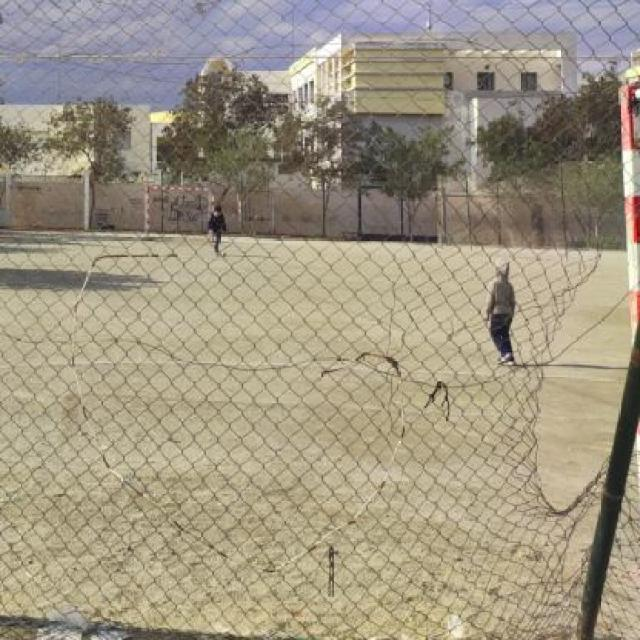fence line: (544, 209, 630, 520)
